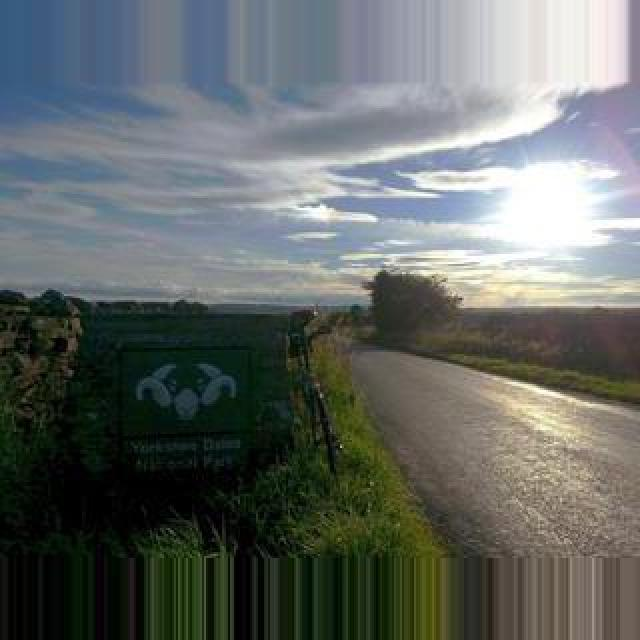Person: (279, 312, 343, 478)
